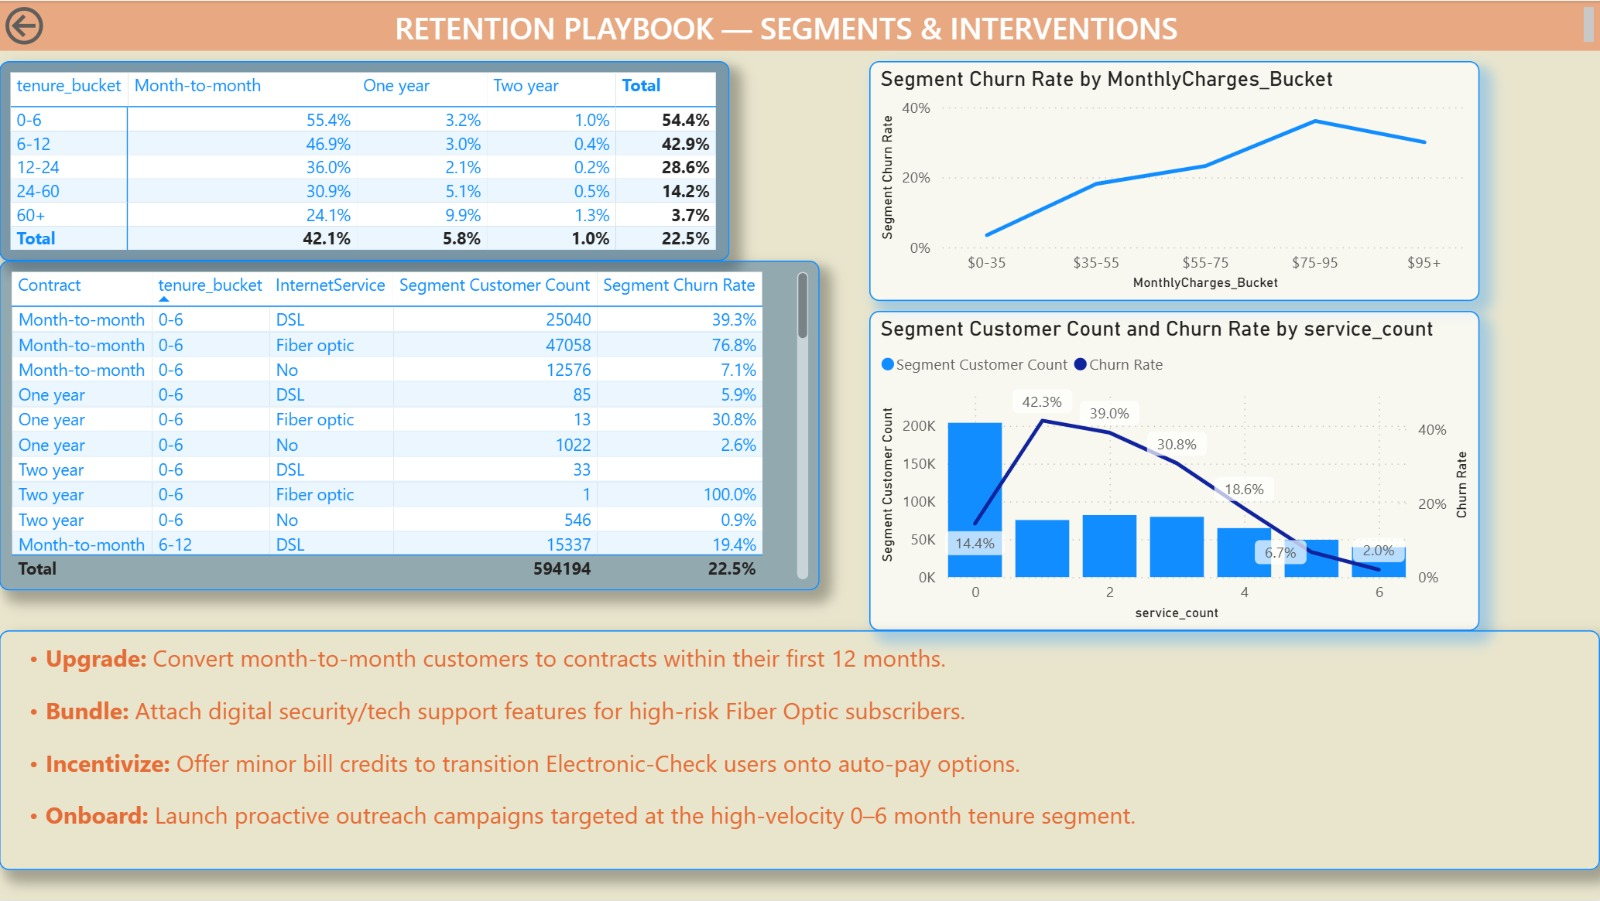

Layout of this report page (visuals, bound fields, positions):
{"tool":"powerbi","page":{"name":"Retention Playbook","canvas":[1600,1000],"ordinal":1},"visuals":[{"type":"pivotTable","title":"Observed churn: tenure × contract","fields":{"Rows":["train.tenure_bucket"],"Columns":["train.Contract"],"Values":["train.Segment Churn Rate"]},"box":[24,126,760,248],"z":0},{"type":"textbox","box":[24,12,1000,64],"z":1000},{"type":"lineChart","title":"Observed churn by monthly charges","fields":{"Y":["train.Segment Churn Rate"],"Category":["train.MonthlyCharges_Bucket"]},"box":[808,126,768,248],"z":2000},{"type":"lineClusteredColumnComboChart","title":"Customer volume and churn by service count","fields":{"Category":["train.service_count"],"Y":["train.Segment Customer Count"],"Y2":["train.Churn Rate"]},"box":[1048,398,528,350],"z":3000},{"type":"tableEx","title":"Segments with at least 1,000 customers","fields":{"Values":["train.Contract","train.tenure_bucket","train.InternetService","train.Segment Customer Count","train.Segment Churn Rate"]},"box":[24,398,1000,350],"z":4000},{"type":"actionButton","box":[1464,24,112,35],"z":5000},{"type":"textbox","title":"Ideas to test","box":[24,772,1552,170],"z":6000},{"type":"textbox","box":[24,74,1200,38],"z":40000},{"type":"textbox","box":[24,962,1552,34],"z":40000}]}

Visuals, with their boxes on the page's 1600x1000 design canvas (x1, y1, x2, y2). These are canvas units, not pixel positions in the 1600x901 screenshot, which may show the page scaled, cropped or inside an application window:
"Observed churn: tenure × contract" pivotTable: locate(24, 126, 784, 374)
textbox: locate(24, 12, 1024, 76)
"Observed churn by monthly charges" lineChart: locate(808, 126, 1576, 374)
"Customer volume and churn by service count" lineClusteredColumnComboChart: locate(1048, 398, 1576, 748)
"Segments with at least 1,000 customers" tableEx: locate(24, 398, 1024, 748)
actionButton: locate(1464, 24, 1576, 59)
"Ideas to test" textbox: locate(24, 772, 1576, 942)
textbox: locate(24, 74, 1224, 112)
textbox: locate(24, 962, 1576, 996)
